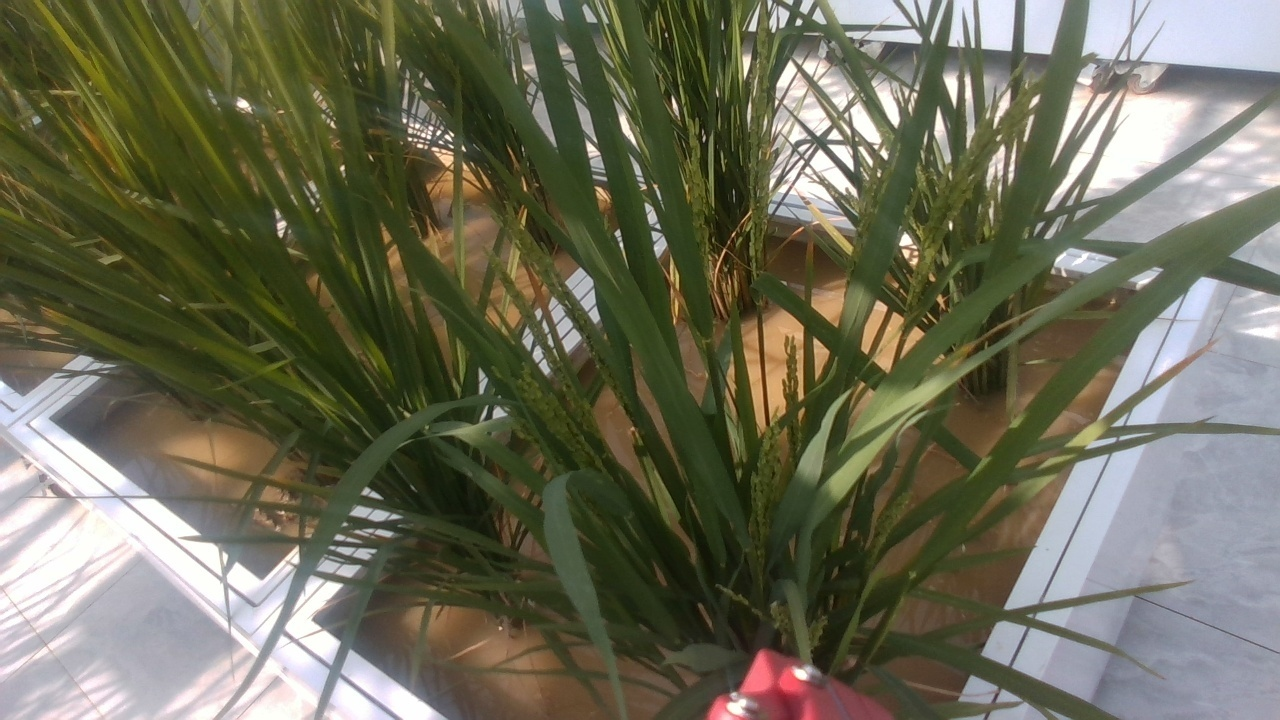panicle: (895, 56, 1076, 274), (740, 6, 790, 264), (508, 212, 617, 329), (516, 351, 590, 461), (678, 117, 714, 230), (756, 414, 783, 536), (777, 333, 804, 400)
